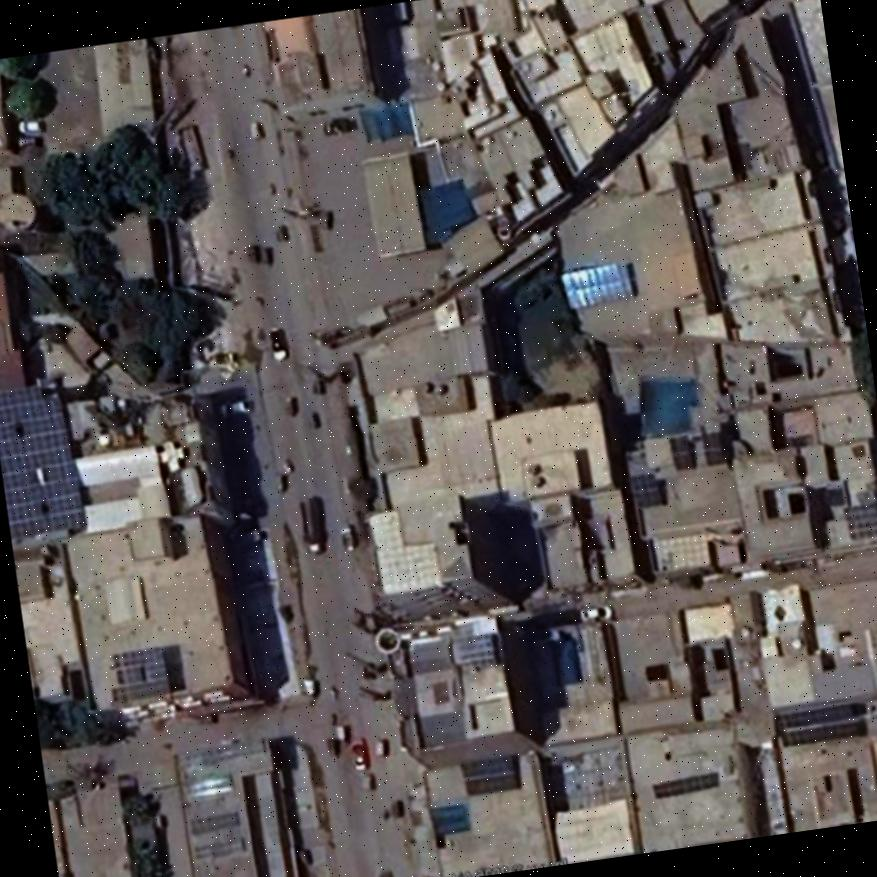Solarpanel: (0, 382, 88, 537), (774, 703, 864, 747), (109, 646, 170, 703), (558, 261, 628, 309), (459, 756, 519, 794), (652, 770, 719, 798), (844, 503, 877, 538), (630, 472, 660, 505)
